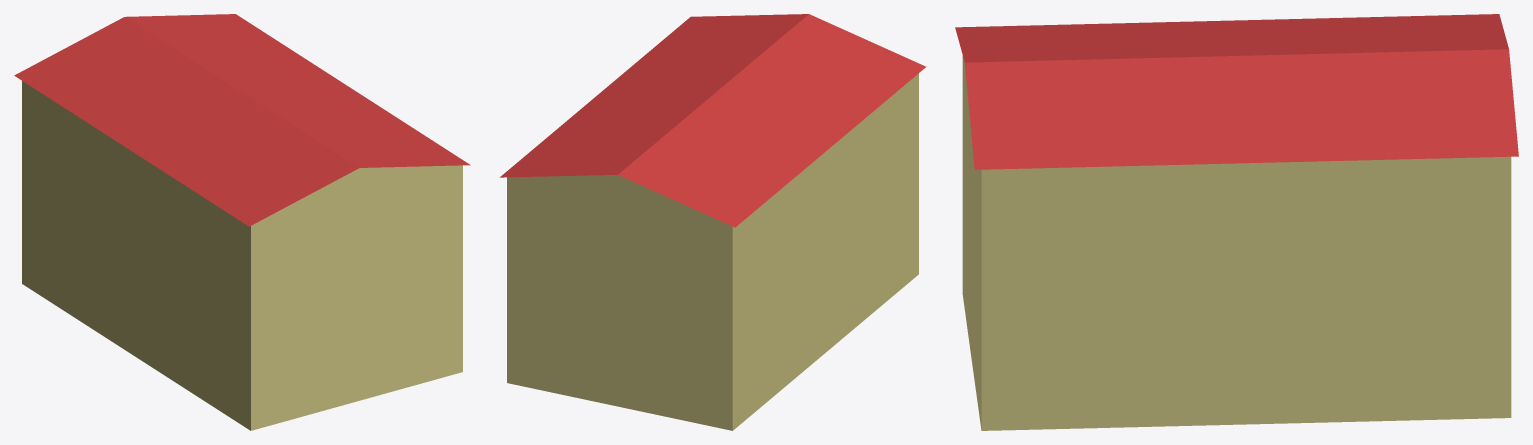
The picture shows the model from 3 angles, left to right: view 1: azimuth 30°, elevation 25°; view 2: azimuth 150°, elevation 25°; view 3: azimuth 270°, elevation 25°; orthographic projection. The views are drawn at different scales.
Bounding box in the file's own units: 12.68 × 19.38 × 11.38.
